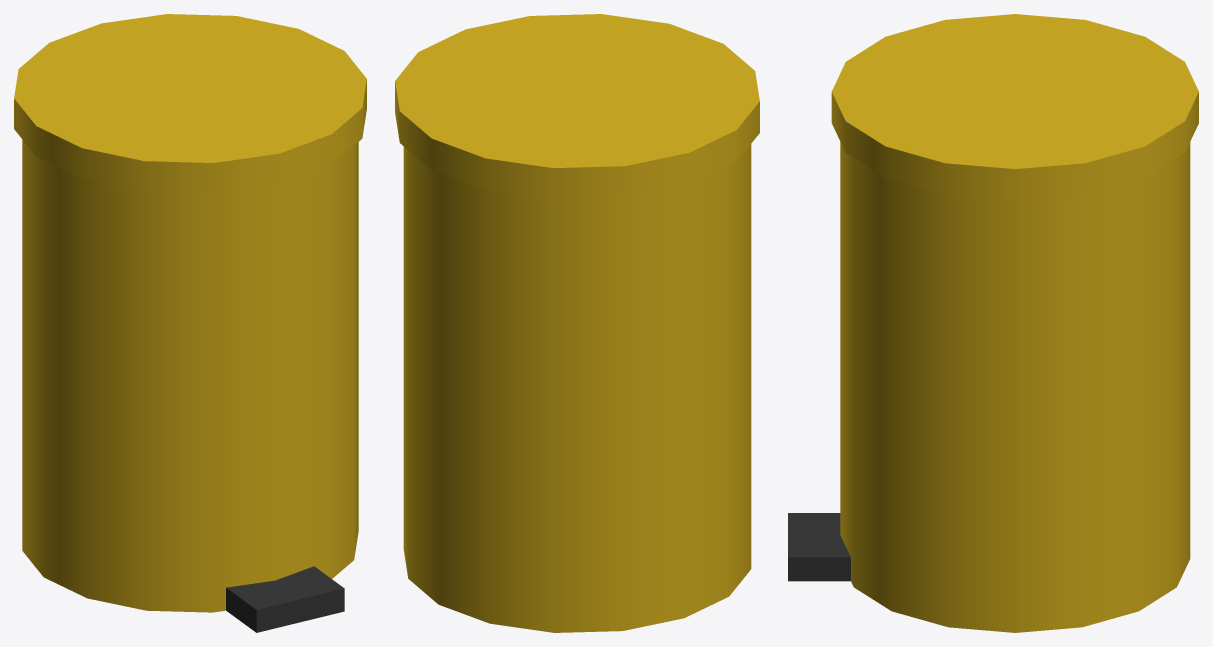
The model's file is prop_bin_hazard.glb.
The picture shows the model from 3 angles, left to right: view 1: azimuth 30°, elevation 25°; view 2: azimuth 150°, elevation 25°; view 3: azimuth 270°, elevation 25°; orthographic projection. The views are drawn at different scales.
Visible parts, largest first — view 1: prop_bin_hazard; view 2: prop_bin_hazard; view 3: prop_bin_hazard.
Boxes of the visible parts, x1,y1,x2,y2 form: prop_bin_hazard: (14, 14, 366, 632); prop_bin_hazard: (395, 14, 759, 632); prop_bin_hazard: (788, 14, 1198, 632).
Size of what is drawn, in the model's own units: 0.42 by 0.59 by 0.47.
